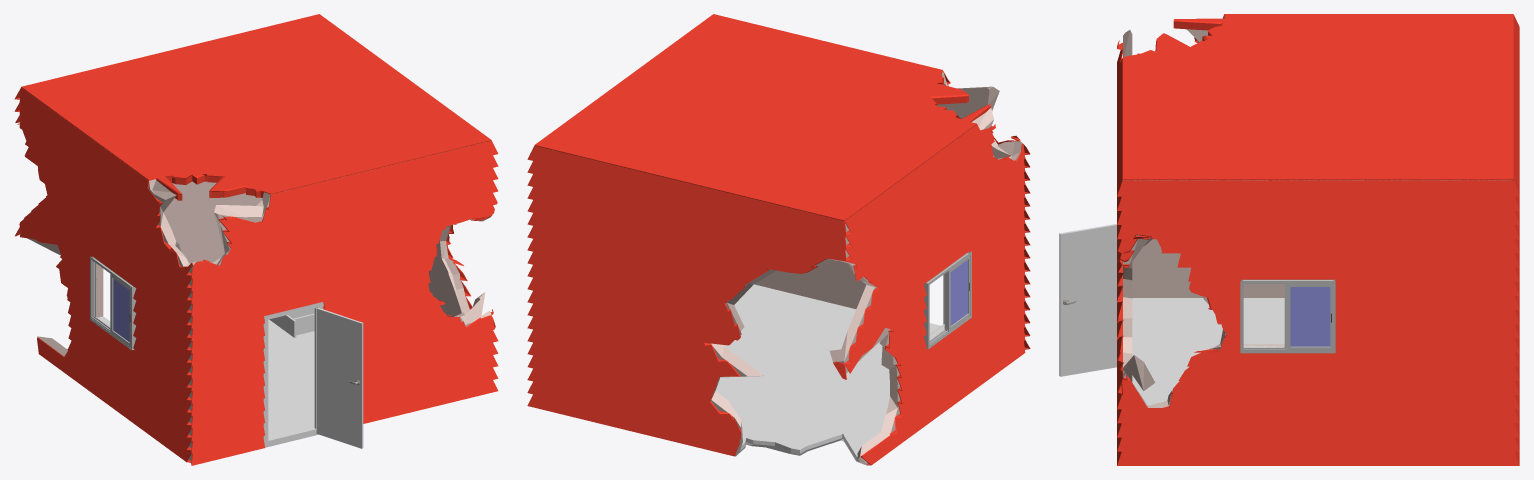
The model's file is House_Rukmaksii_1_final.fbx.
3 views of the same model, side by side, from view 1: azimuth 30°, elevation 25°; view 2: azimuth 150°, elevation 25°; view 3: azimuth 270°, elevation 25° (orthographic). The views are drawn at different scales.
Visible parts, largest first — view 1: Wall_cover, Ceiling, Room, Door, Floor, DoorFrame, Window.R, WindowFrame, Shelves1; view 2: Wall_cover, Ceiling, Floor, Room, Window.R, WindowFrame; view 3: Wall_cover, Ceiling, Floor, Door, Room, Window.R.001, WindowFrame.001.
Part boxes in pixels (box(x1,y1,x2,y2)): Wall_cover: box(14, 87, 498, 465); Ceiling: box(21, 14, 491, 200); Room: box(27, 142, 491, 460); Door: box(316, 307, 363, 448); Floor: box(66, 319, 318, 463); DoorFrame: box(263, 302, 323, 446); Window.R: box(110, 274, 130, 346); WindowFrame: box(90, 256, 136, 350); Shelves1: box(269, 308, 314, 337); Wall_cover: box(527, 71, 1030, 465); Ceiling: box(534, 14, 990, 221); Floor: box(715, 284, 940, 465); Room: box(538, 71, 1022, 464); Window.R: box(947, 255, 969, 331); WindowFrame: box(923, 251, 971, 349); Wall_cover: box(1117, 15, 1519, 465); Ceiling: box(1123, 14, 1513, 180); Floor: box(1132, 298, 1284, 405); Door: box(1059, 224, 1116, 376); Room: box(1123, 15, 1511, 407); Window.R.001: box(1286, 284, 1332, 350); WindowFrame.001: box(1240, 279, 1335, 353).
Size of the model in its own units: 524 by 405 by 589.
